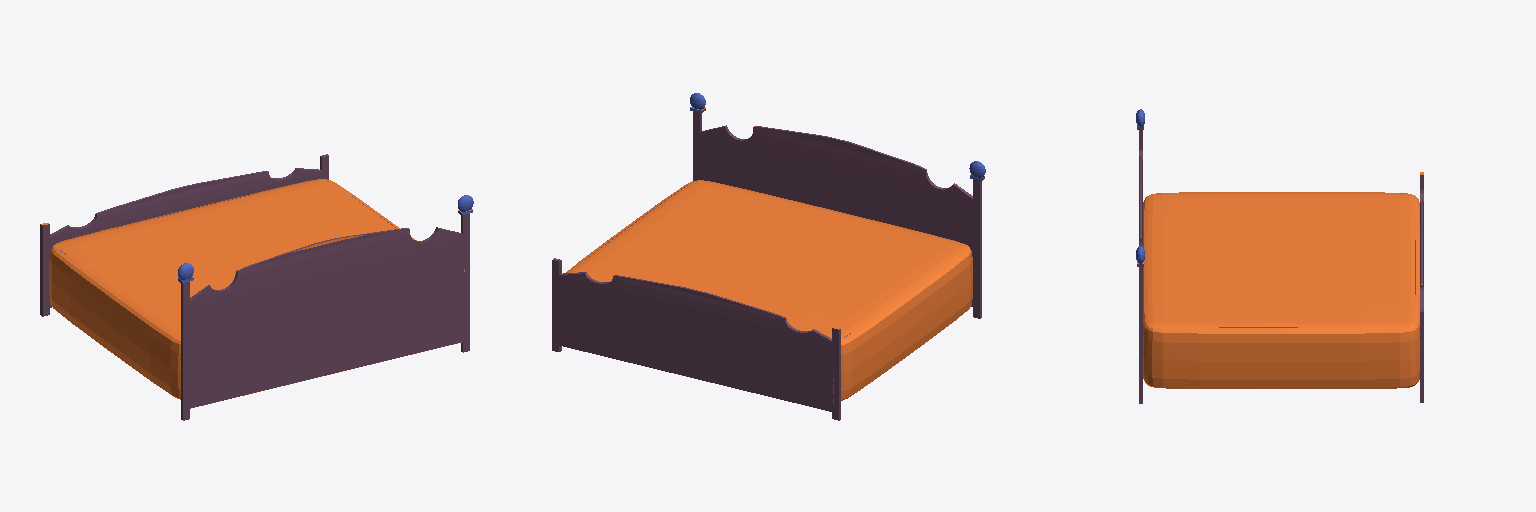
The picture shows the model from 3 angles: view 1: azimuth 30°, elevation 25°; view 2: azimuth 150°, elevation 25°; view 3: azimuth 270°, elevation 25°; orthographic projection.
Parts seen in each view (by area): view 1: Cube.016_Cube.027; view 2: Cube.016_Cube.027; view 3: Cube.016_Cube.027.
Boxes of the visible parts, <box> form: Cube.016_Cube.027: <box>40,154,473,420</box>; Cube.016_Cube.027: <box>552,93,985,420</box>; Cube.016_Cube.027: <box>1136,109,1423,403</box>.
Size of the model in its own units: 29.69 by 15.02 by 25.12.
Materials: 1 (1 with a texture image).